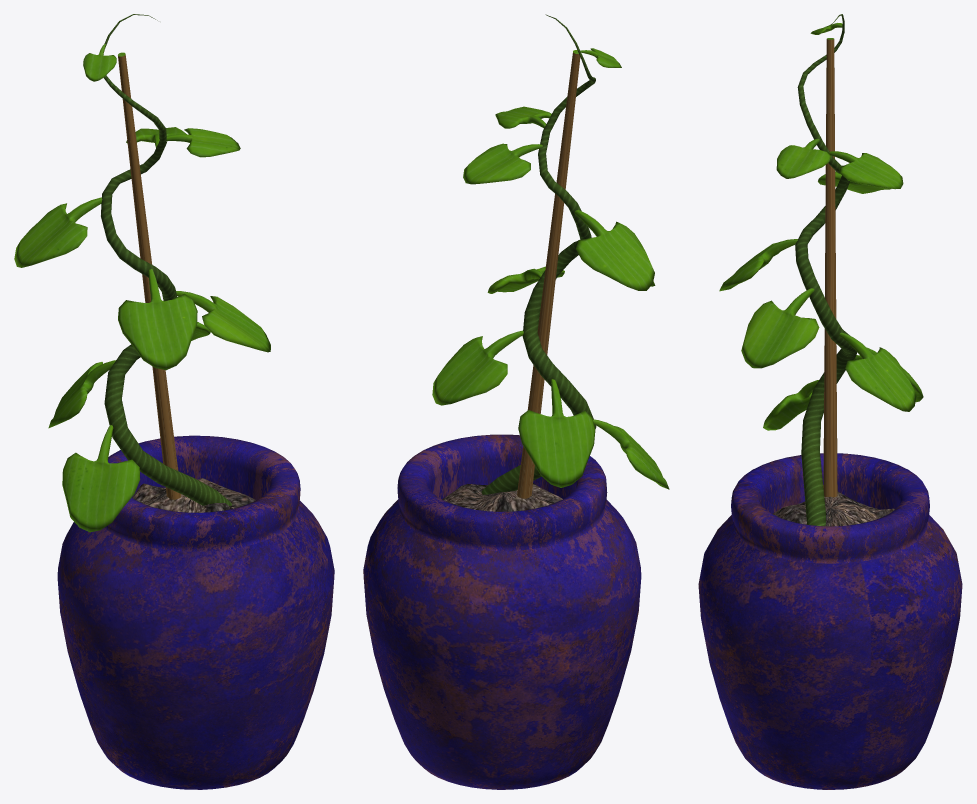
Rendered from vasevine.fbx.
The picture shows the model from 3 angles, left to right: view 1: azimuth 30°, elevation 25°; view 2: azimuth 150°, elevation 25°; view 3: azimuth 270°, elevation 25°; orthographic projection. The views are drawn at different scales.
Visible parts, largest first — view 1: pCube10; view 2: pCube10; view 3: pCube10.
Boxes of the visible parts, x1,y1,x2,y2 form: pCube10: (14, 14, 334, 789); pCube10: (363, 14, 669, 789); pCube10: (698, 14, 962, 789).
Size of the model in its own units: 3.75 by 9.61 by 3.19.
